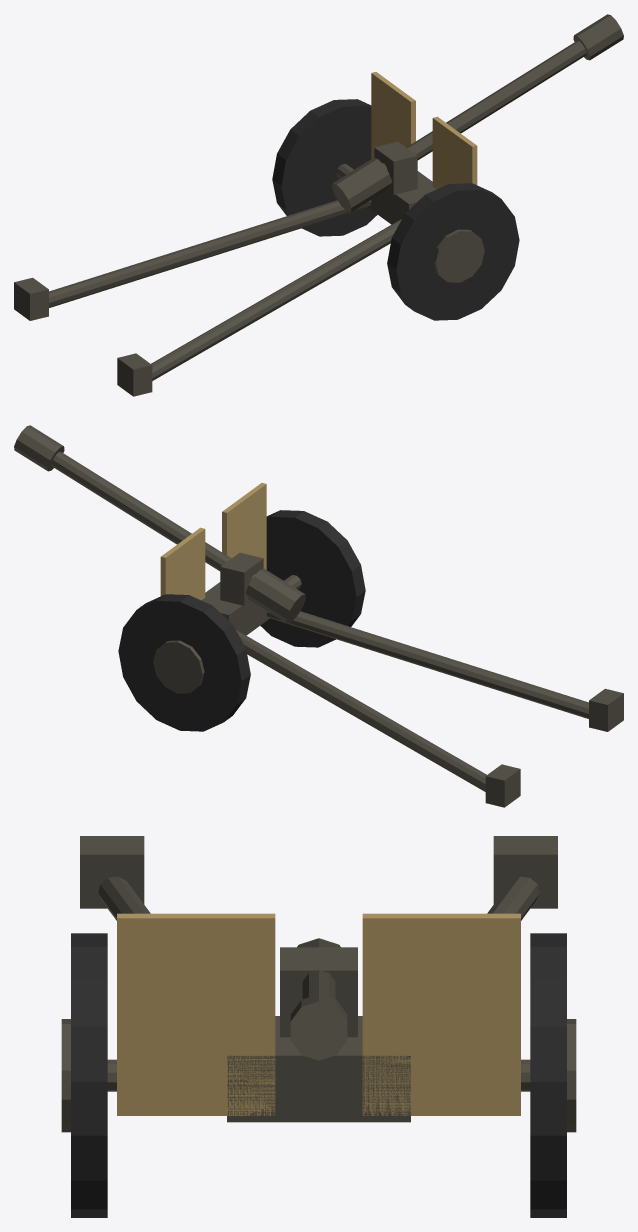
The model's file is de_105_cm_lefh_18.obj.
3 views of the same model, one above another, from view 1: azimuth 30°, elevation 25°; view 2: azimuth 150°, elevation 25°; view 3: azimuth 270°, elevation 25° (orthographic). The views are drawn at different scales.
Bounding box in the file's own units: 5.49 × 1.99 × 2.24.
